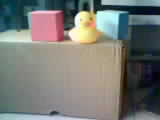duck: (63, 9, 106, 55)
